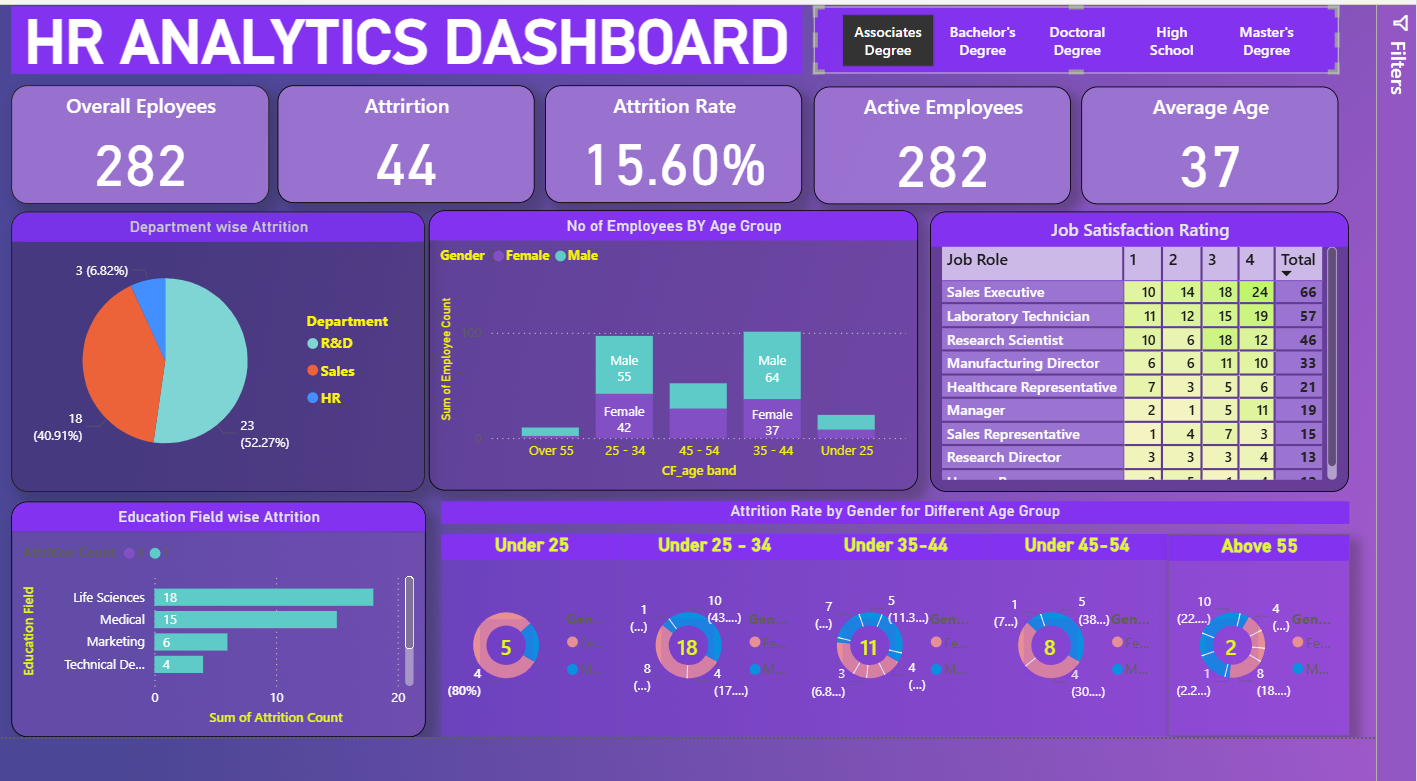

The dashboard page shown, as its layout file describes it:
{"tool":"powerbi","page":{"name":"Page 1","canvas":[1280,720],"ordinal":0},"visuals":[{"type":"card","title":"Overall Eployees","fields":{"Values":["Sum(HR data.Employee Count)"]},"box":[10.5,112.8,240,110],"z":0},{"type":"card","title":"Attrirtion","fields":{"Values":["Sum(HR data.Attrition Count)"]},"box":[258.1,112.8,239.5,109.3],"z":1000},{"type":"card","title":"Attrition Rate","fields":{"Values":["HR data.Attrition Rate"]},"box":[507,112.8,239.5,109.3],"z":2000},{"type":"card","title":"Active Employees","fields":{"Values":["Sum(HR data.Employee Count)"]},"box":[757,114,239.5,109.3],"z":3000},{"type":"card","title":"Average Age","fields":{"Values":["Avg(HR data.Age)"]},"box":[1005.8,114,239.5,109.3],"z":4000},{"type":"pieChart","title":"Department wise Attrition","fields":{"Y":["Sum(HR data.Attrition Count)"],"Category":["HR data.Department"]},"box":[10.5,230.2,384.9,260.5],"z":5000},{"type":"columnChart","title":"No of Employees BY Age Group","fields":{"Category":["HR data.CF_age band"],"Y":["Sum(HR data.Employee Count)"],"Series":["HR data.Gender"]},"box":[399.2,229.3,455.1,260.7],"z":6000},{"type":"pivotTable","title":"Job Satisfaction Rating","fields":{"Rows":["HR data.Job Role"],"Columns":["HR data.Job Satisfaction"],"Values":["Sum(HR data.Employee Count)"]},"box":[864.7,230.4,389.9,260.7],"z":7000},{"type":"barChart","title":"Education Field wise Attrition","fields":{"Category":["HR data.Education Field"],"Series":["HR data.Attrition Count"],"Y":["Sum(HR data.Attrition Count)"]},"box":[10.5,500.5,385.2,218.8],"z":7001},{"type":"donutChart","title":"Under 25","fields":{"Category":["HR data.Gender"],"Y":["Sum(HR data.Attrition Count)"],"Series":["HR data.CF_age band"]},"box":[410.7,530.2,169,188.2],"z":7002},{"type":"textbox","title":"Attrition Rate by Gender for Different Age Group","box":[410.7,500,844.8,20.6],"z":7003},{"type":"donutChart","title":"Under 25 - 34","fields":{"Category":["HR data.Gender"],"Y":["Sum(HR data.Attrition Count)"],"Series":["HR data.CF_age band"]},"box":[579.7,530.2,169,188.2],"z":7004},{"type":"donutChart","title":"Under 35-44","fields":{"Category":["HR data.Gender"],"Y":["Sum(HR data.Attrition Count)"],"Series":["HR data.CF_age band"]},"box":[748.7,530.2,169,188.2],"z":7005},{"type":"donutChart","title":"Under 45-54","fields":{"Category":["HR data.Gender"],"Y":["Sum(HR data.Attrition Count)"],"Series":["HR data.CF_age band"]},"box":[917.6,530.2,169,188.2],"z":7006},{"type":"donutChart","title":"Above 55","fields":{"Category":["HR data.Gender"],"Y":["Sum(HR data.Attrition Count)"],"Series":["HR data.CF_age band"]},"box":[1086,530.2,169.8,188.4],"z":7007},{"type":"card","fields":{"Values":["Sum(HR data.Attrition Count)"]},"box":[446,609.3,49.4,54.9],"z":7008},{"type":"card","fields":{"Values":["Sum(HR data.Attrition Count)"]},"box":[614.8,609.3,49.4,54.9],"z":7009},{"type":"card","fields":{"Values":["Sum(HR data.Attrition Count)"]},"box":[783.5,609.3,49.4,54.9],"z":7010},{"type":"card","fields":{"Values":["Sum(HR data.Attrition Count)"]},"box":[952.3,609.3,49.4,54.9],"z":7011},{"type":"card","fields":{"Values":["Sum(HR data.Attrition Count)"]},"box":[1121.1,609.3,49.4,54.9],"z":7012},{"type":"textbox","title":"HR ANALYTICS  DASHBOARD","box":[10.5,39.5,736,62.8],"z":7013},{"type":"slicer","fields":{"Values":["HR data.Education"]},"box":[757,39.5,488.4,62.8],"z":7014}]}

Visuals, with their boxes in screenshot pixels (x1, y1, x2, y2), scaled from the page's 1280x720 canvas onto the 1417x781 screenshot:
"Overall Eployees" card: rect(12, 122, 277, 242)
"Attrirtion" card: rect(286, 122, 551, 241)
"Attrition Rate" card: rect(561, 122, 826, 241)
"Active Employees" card: rect(838, 124, 1103, 242)
"Average Age" card: rect(1113, 124, 1379, 242)
"Department wise Attrition" pieChart: rect(12, 250, 438, 532)
"No of Employees BY Age Group" columnChart: rect(442, 249, 946, 532)
"Job Satisfaction Rating" pivotTable: rect(957, 250, 1389, 533)
"Education Field wise Attrition" barChart: rect(12, 543, 438, 780)
"Under 25" donutChart: rect(455, 575, 642, 779)
"Attrition Rate by Gender for Different Age Group" textbox: rect(455, 542, 1390, 565)
"Under 25 - 34" donutChart: rect(642, 575, 829, 779)
"Under 35-44" donutChart: rect(829, 575, 1016, 779)
"Under 45-54" donutChart: rect(1016, 575, 1203, 779)
"Above 55" donutChart: rect(1202, 575, 1390, 779)
card - Sum(HR data.Attrition Count): rect(494, 661, 548, 720)
card - Sum(HR data.Attrition Count): rect(681, 661, 735, 720)
card - Sum(HR data.Attrition Count): rect(867, 661, 922, 720)
card - Sum(HR data.Attrition Count): rect(1054, 661, 1109, 720)
card - Sum(HR data.Attrition Count): rect(1241, 661, 1296, 720)
"HR ANALYTICS  DASHBOARD" textbox: rect(12, 43, 826, 111)
slicer - HR data.Education: rect(838, 43, 1379, 111)
